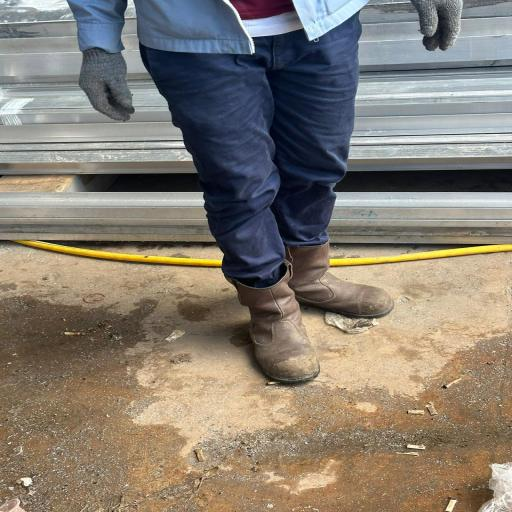safety_shoe: (227, 271, 331, 390), (291, 231, 399, 325)
